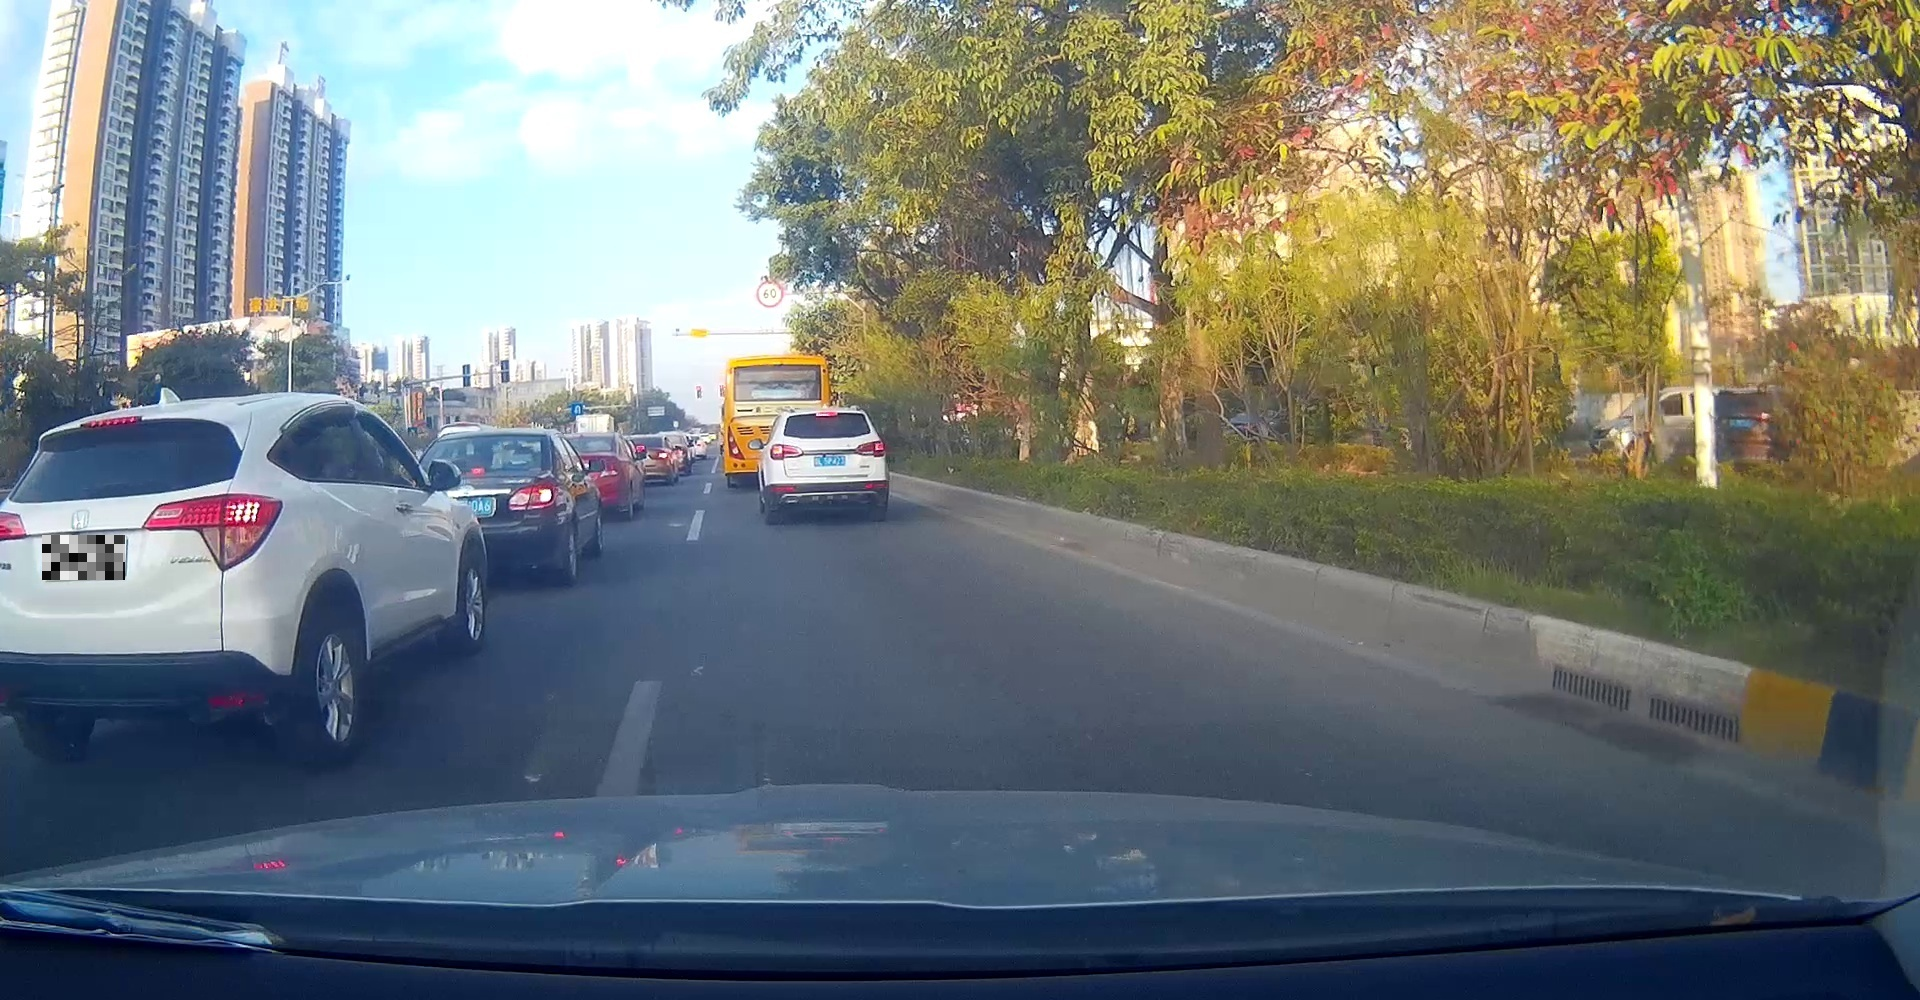L_light: (0, 510, 28, 541), (770, 444, 803, 459)
R_light: (141, 492, 283, 572), (855, 440, 885, 456)
T_light: (83, 415, 141, 426), (817, 412, 838, 416)
day-brake: (0, 398, 284, 761), (770, 407, 888, 522)
plate_1: (42, 536, 124, 580)
